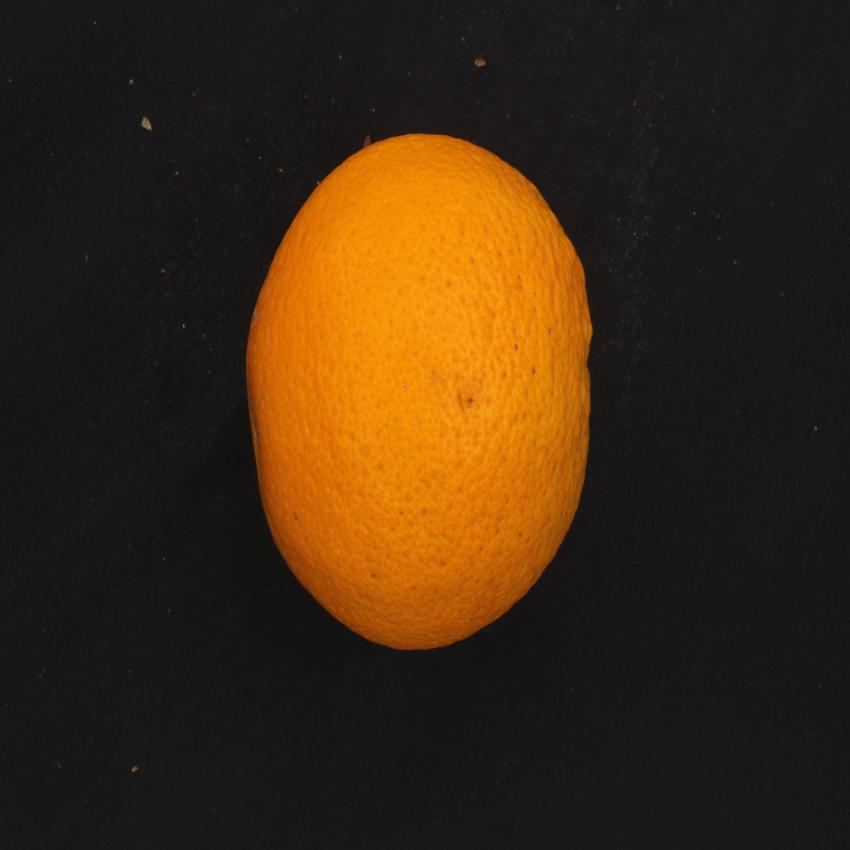Buen estado: (240, 116, 604, 664)
